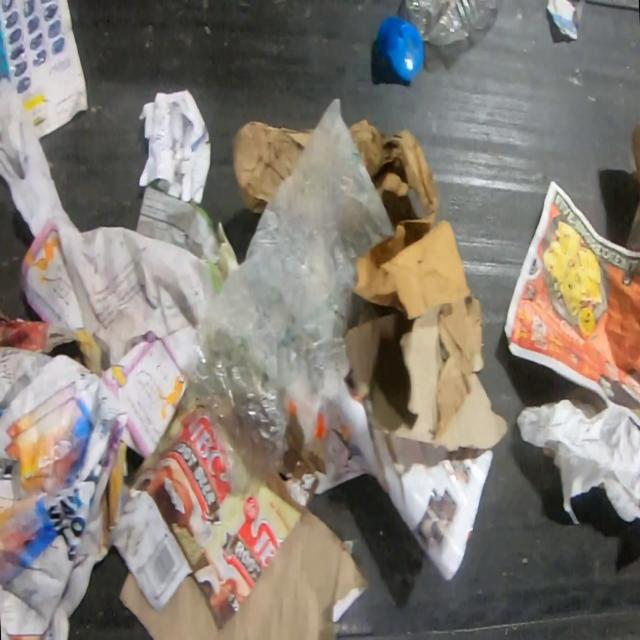cardboard: (105, 406, 326, 628), (116, 506, 372, 640), (346, 303, 510, 451)
rigid_plastic: (404, 0, 497, 47), (376, 12, 425, 85)
soft_plastic: (176, 96, 395, 501)
